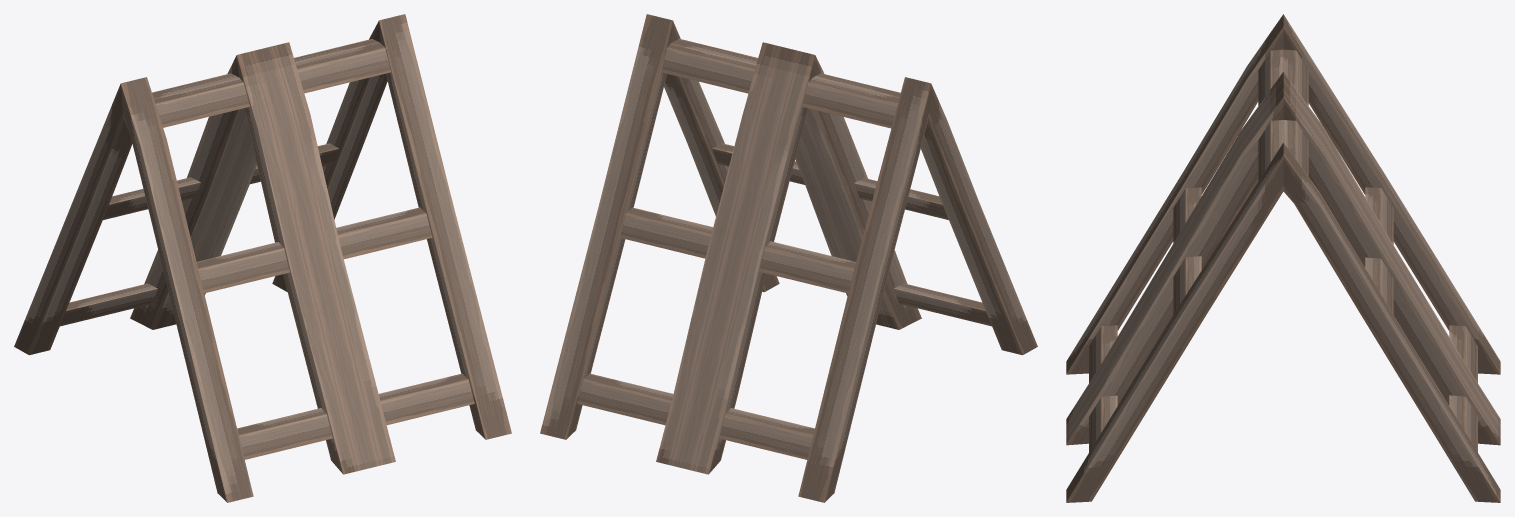
File: SM_RoofPoles_Top_01.fbx
The picture shows the model from 3 angles, left to right: view 1: azimuth 30°, elevation 25°; view 2: azimuth 150°, elevation 25°; view 3: azimuth 270°, elevation 25°; orthographic projection.
Parts seen in each view (by area): view 1: SM_RoofPoles_Top_01_LOD0; view 2: SM_RoofPoles_Top_01_LOD0; view 3: SM_RoofPoles_Top_01_LOD0.
Part boxes in pixels (x1,y1,x2,y2): SM_RoofPoles_Top_01_LOD0: [14, 14, 511, 502]; SM_RoofPoles_Top_01_LOD0: [540, 14, 1037, 502]; SM_RoofPoles_Top_01_LOD0: [1066, 14, 1500, 502].
Bounding box in the file's own units: 771 × 1002 × 885.
